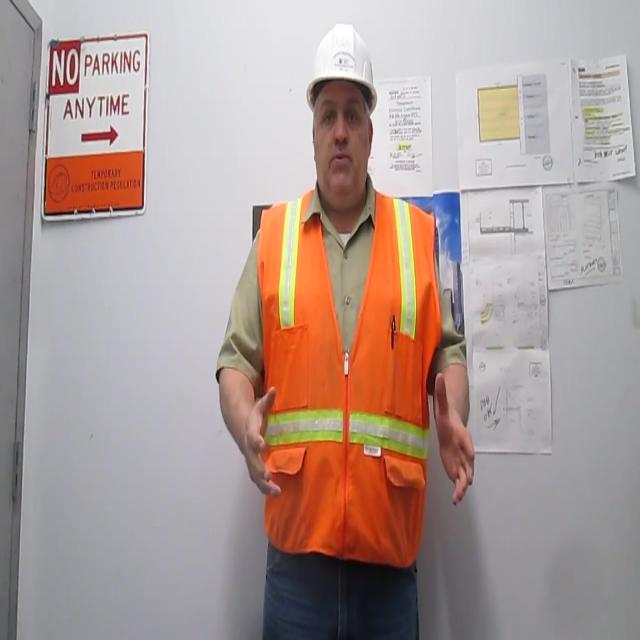Reflective-Jacket: (243, 190, 451, 572)
Safety-Helmet: (304, 18, 382, 114)
